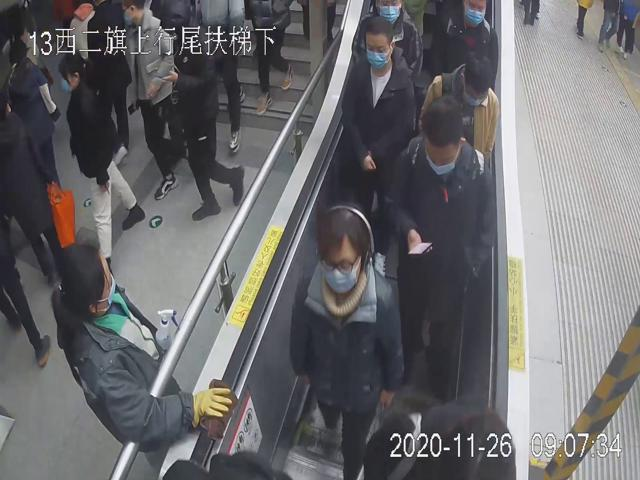person: (49, 233, 236, 452), (384, 93, 496, 405), (289, 200, 406, 480), (57, 49, 145, 273), (343, 14, 416, 211), (416, 50, 500, 168)
